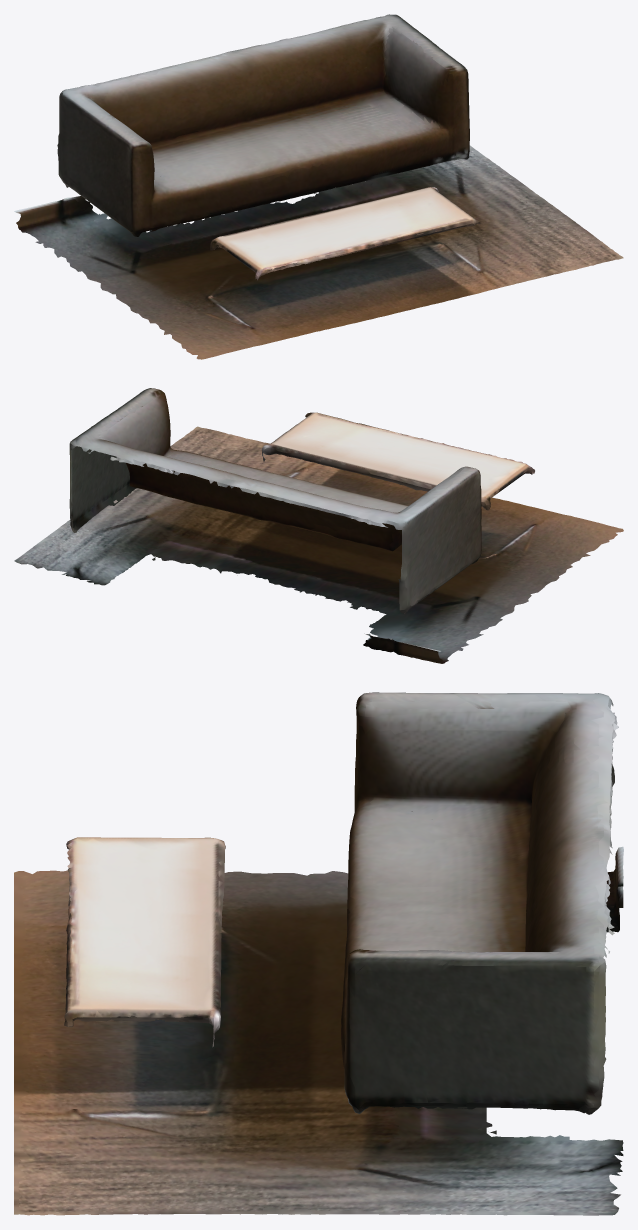
Rendered from SofaCoffeTable.glb.
3 views of the same model, one above another, from view 1: azimuth 30°, elevation 25°; view 2: azimuth 150°, elevation 25°; view 3: azimuth 270°, elevation 25° (orthographic). The views are drawn at different scales.
Parts seen in each view (by area): view 1: Model; view 2: Model; view 3: Model.
Boxes of the visible parts, x1=… form: Model: x1=14, y1=14, x2=623, y2=359; Model: x1=14, y1=388, x2=623, y2=663; Model: x1=14, y1=692, x2=623, y2=1215.
Bounding box in the file's own units: 2.5 × 0.7357 × 1.88.
Materials: 1 (1 with a texture image).
